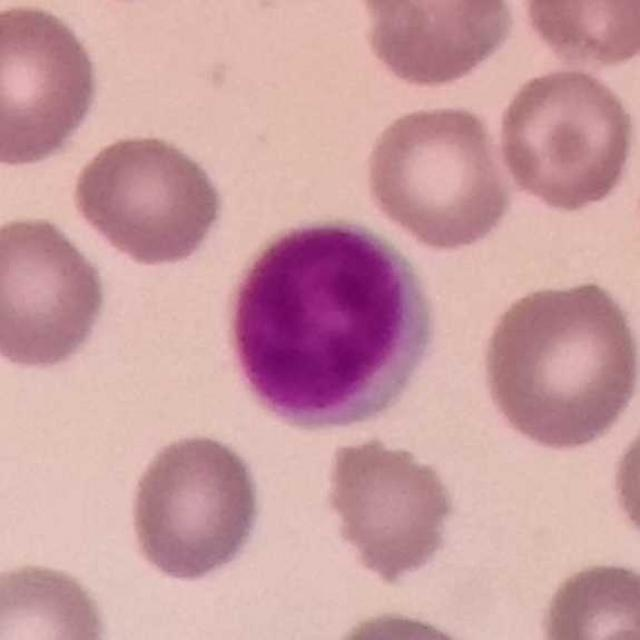Lymphocyte: (217, 212, 439, 435)
RBC: (474, 273, 640, 453), (358, 99, 516, 253), (122, 428, 266, 586), (319, 428, 461, 588), (67, 128, 229, 267), (492, 62, 639, 215), (1, 209, 111, 374), (0, 0, 104, 169), (353, 0, 520, 91), (0, 556, 114, 640), (517, 0, 640, 72), (535, 556, 639, 640), (605, 390, 640, 563), (320, 606, 492, 640), (569, 621, 640, 640)
